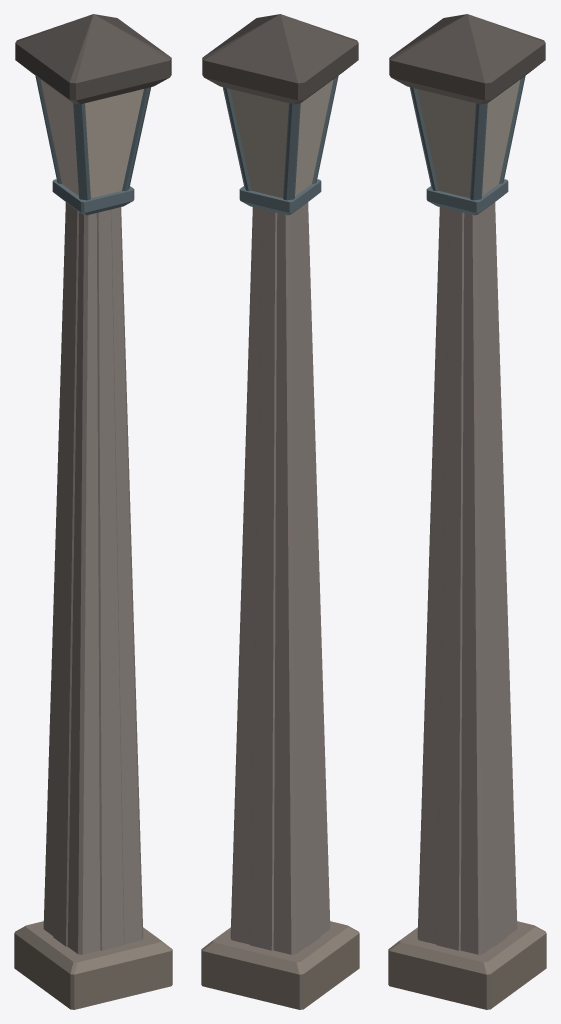
Rendered from campus-lamp-post-579291.glb.
3 renders of one model, left to right at view 1: azimuth 30°, elevation 25°; view 2: azimuth 150°, elevation 25°; view 3: azimuth 330°, elevation 25°, orthographic.
Visible parts, largest first — view 1: post; view 2: post; view 3: post.
Boxes of the visible parts, bbox=[...] form: post: bbox=[14, 14, 172, 1009]; post: bbox=[201, 14, 359, 1009]; post: bbox=[388, 14, 546, 1009].
Bounding box in the file's own units: 0.5 × 4.5 × 0.5.
